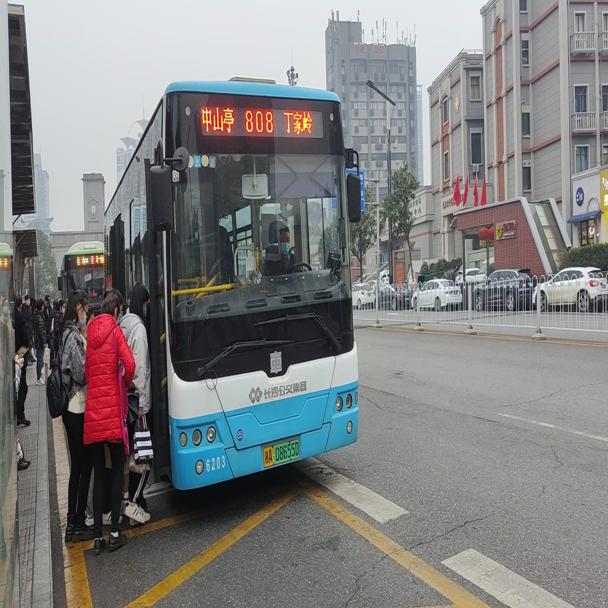bus: (101, 76, 362, 490), (56, 240, 104, 313)
screen: (239, 104, 276, 136), (87, 253, 95, 267)
